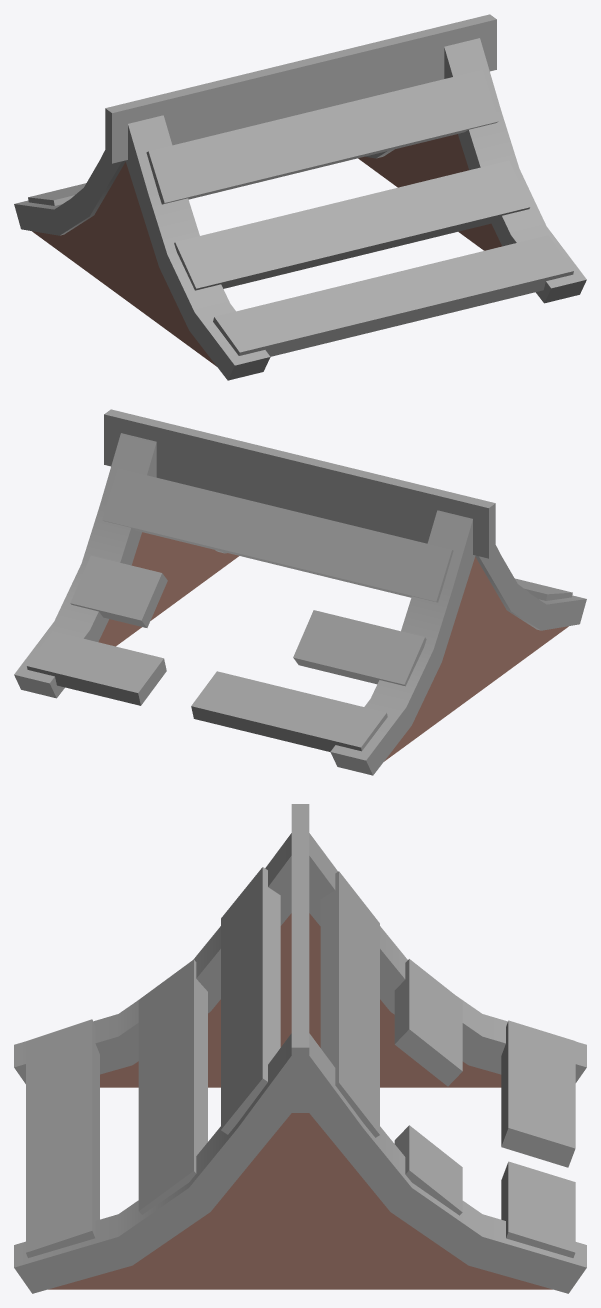
File: TechoChico3.fbx
3 renders of one model, top to bottom at view 1: azimuth 30°, elevation 25°; view 2: azimuth 150°, elevation 25°; view 3: azimuth 270°, elevation 25°, orthographic. The views are drawn at different scales.
Parts seen in each view (by area): view 1: polySurface1069, polySurface1074; view 2: polySurface1069, polySurface1074; view 3: polySurface1069, polySurface1074.
Boxes of the visible parts, x1,y1,x2,y2 form: polySurface1069: (14,14,586,380); polySurface1074: (32,134,501,366); polySurface1069: (14,409,586,775); polySurface1074: (98,532,568,761); polySurface1069: (14,804,586,1293); polySurface1074: (48,913,552,1289).
Bounding box in the file's own units: 2.66 × 1.31 × 2.65.
